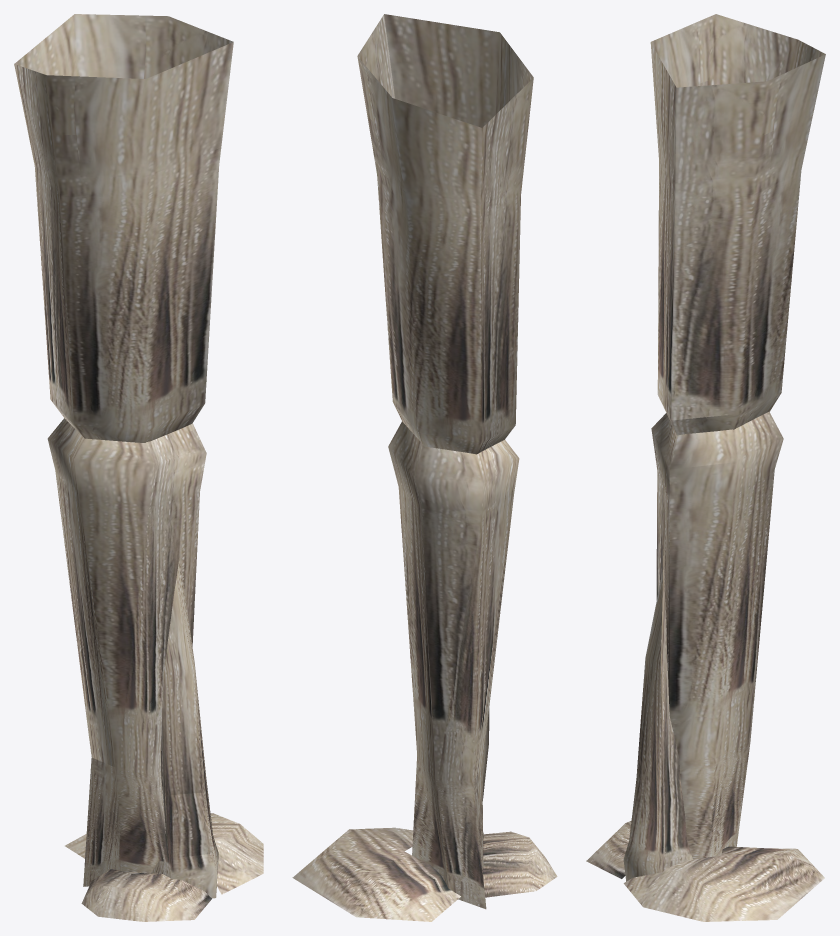
The model's file is pir_m_prp_cav_stitesmites_single_white.fbx.
The picture shows the model from 3 angles, left to right: view 1: azimuth 30°, elevation 25°; view 2: azimuth 150°, elevation 25°; view 3: azimuth 270°, elevation 25°; orthographic projection. The views are drawn at different scales.
Parts seen in each view (by area): view 1: pCylinder41, pCylinder37, pCylinder30, pCube16, pCube15; view 2: pCylinder41, pCylinder37, pCube15, pCube16; view 3: pCylinder41, pCylinder37, pCube15, pCylinder30, pCube16.
Boxes of the visible parts, x1,y1,x2,y2 form: pCylinder41: (14,14,233,442); pCylinder37: (47,418,206,886); pCylinder30: (151,557,218,898); pCube16: (81,869,211,921); pCube15: (65,813,263,894); pCylinder41: (357,14,533,454); pCylinder37: (388,421,519,909); pCube15: (292,827,460,921); pCube16: (482,831,557,897); pCylinder41: (650,14,825,435); pCylinder37: (651,411,783,859); pCube15: (623,846,824,921); pCylinder30: (623,549,692,881); pCube16: (586,820,631,878).
Bounding box in the file's own units: 1468 × 5540 × 1463.
Materials: 1 (1 with a texture image).
